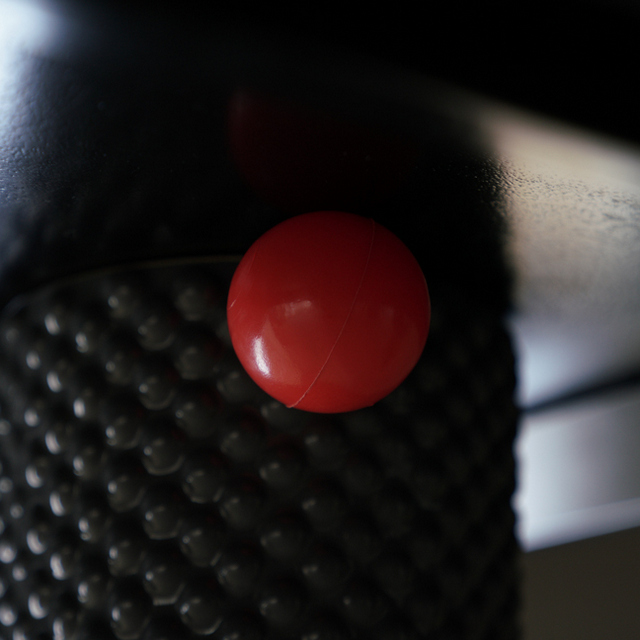Ball: (228, 209, 430, 408)
